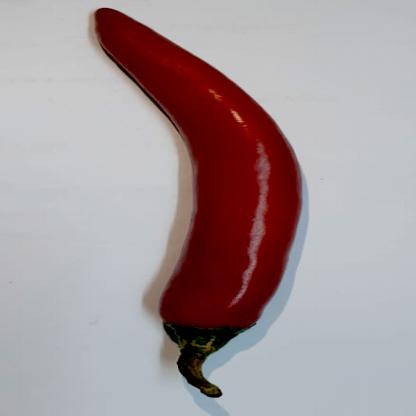chili: (79, 8, 321, 400)
